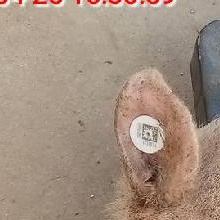text: (123, 111, 171, 159)
